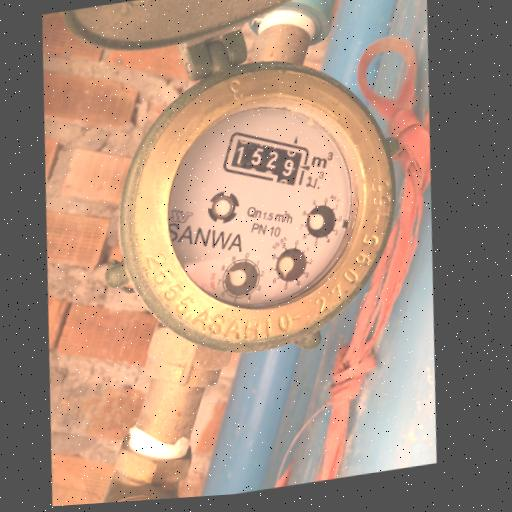1: (226, 137, 254, 171)
2: (258, 144, 285, 177)
5: (243, 140, 269, 173)
9: (275, 147, 304, 187)
border_water_meter_number: (214, 118, 322, 201)
